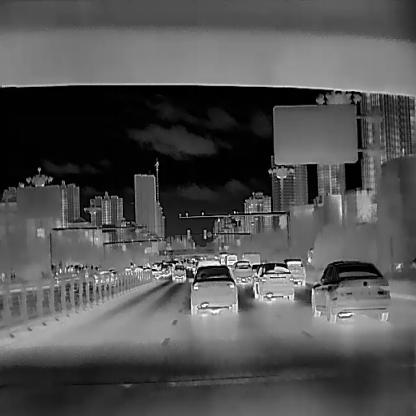car: (310, 260, 390, 323), (190, 264, 237, 314), (251, 262, 294, 300), (283, 257, 306, 285), (193, 259, 220, 280), (231, 259, 253, 283), (136, 267, 161, 279), (94, 269, 113, 282), (172, 264, 186, 280)
truck: (240, 252, 260, 265)
